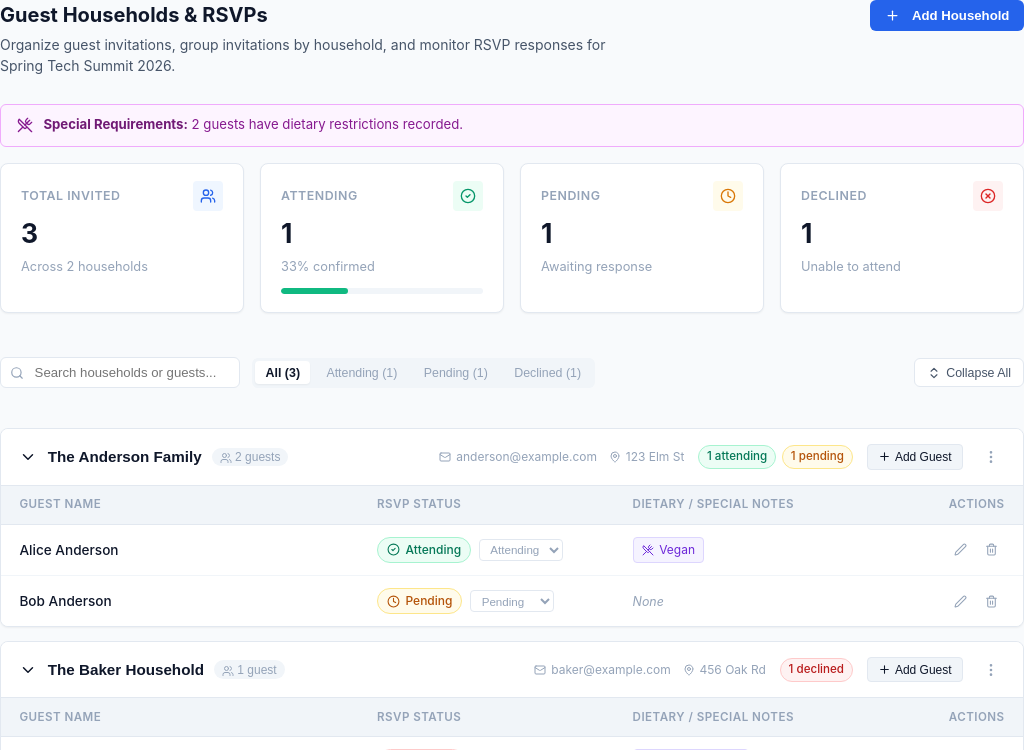
Scenario: EventGuestsTab Household & Guest Management (Sub-Task 3.5.2) › filters households and member guests by search query
In the field labelled "Search households or guests": (120, 373) [0,357,240,388], type "Charlie"
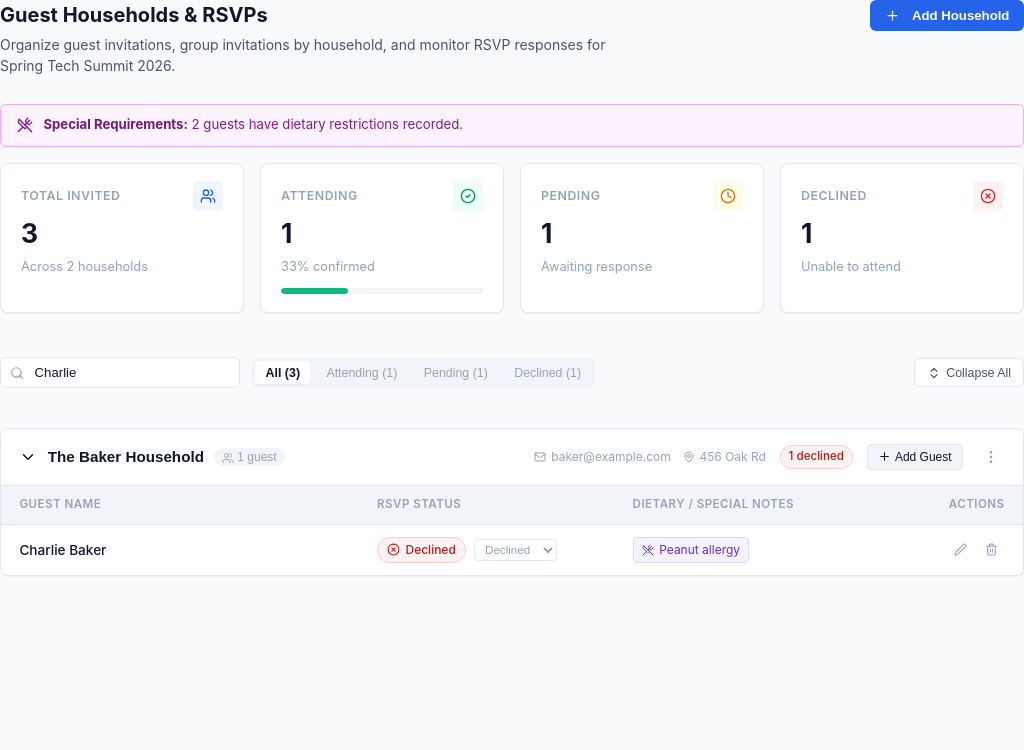
Check: the text "Charlie Baker" is shown, box [19,542,106,558]
Check: the text "Alice Anderson" is gone
